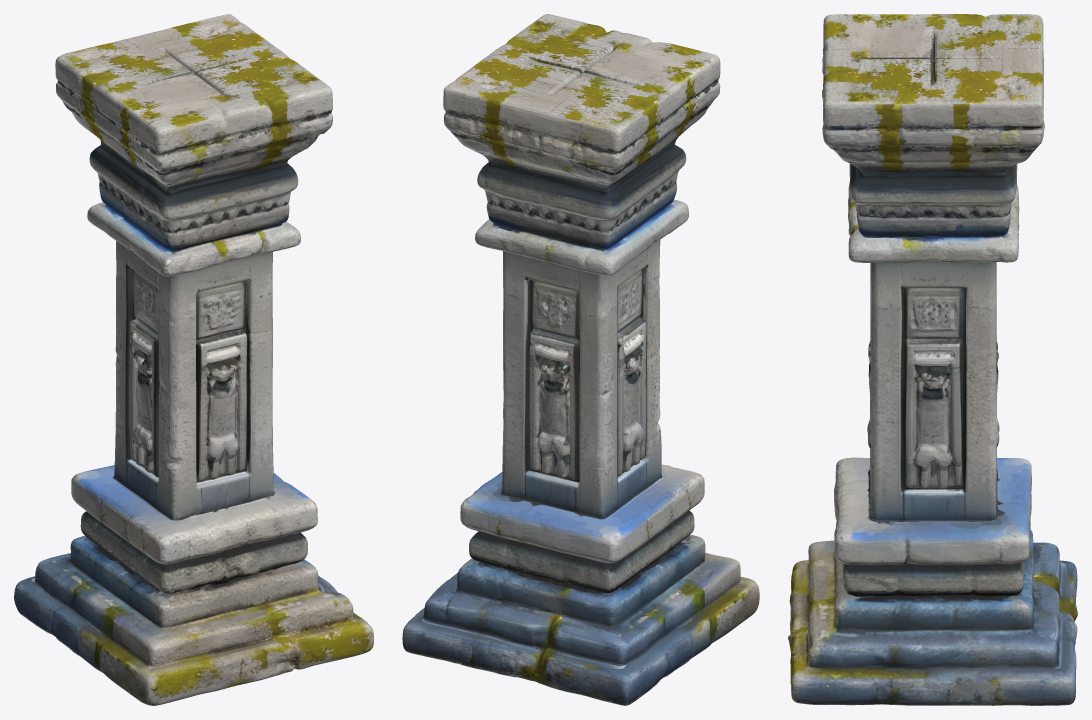
Rendered from kadamba-granite-temple-pillar-optimized.glb.
3 renders of one model, left to right at view 1: azimuth 30°, elevation 25°; view 2: azimuth 150°, elevation 25°; view 3: azimuth 270°, elevation 25°, orthographic. The views are drawn at different scales.
Parts seen in each view (by area): view 1: ad095f20-262f-4972-be37-11dcafd8a0b0_texturing; view 2: ad095f20-262f-4972-be37-11dcafd8a0b0_texturing; view 3: ad095f20-262f-4972-be37-11dcafd8a0b0_texturing.
Boxes of the visible parts, x1=… form: ad095f20-262f-4972-be37-11dcafd8a0b0_texturing: x1=14, y1=14, x2=373, y2=705; ad095f20-262f-4972-be37-11dcafd8a0b0_texturing: x1=402, y1=14, x2=759, y2=705; ad095f20-262f-4972-be37-11dcafd8a0b0_texturing: x1=788, y1=14, x2=1077, y2=705.
Size of the model in its own units: 1.51 by 3.5 by 1.55.
Materials: 1 (1 with a texture image).
